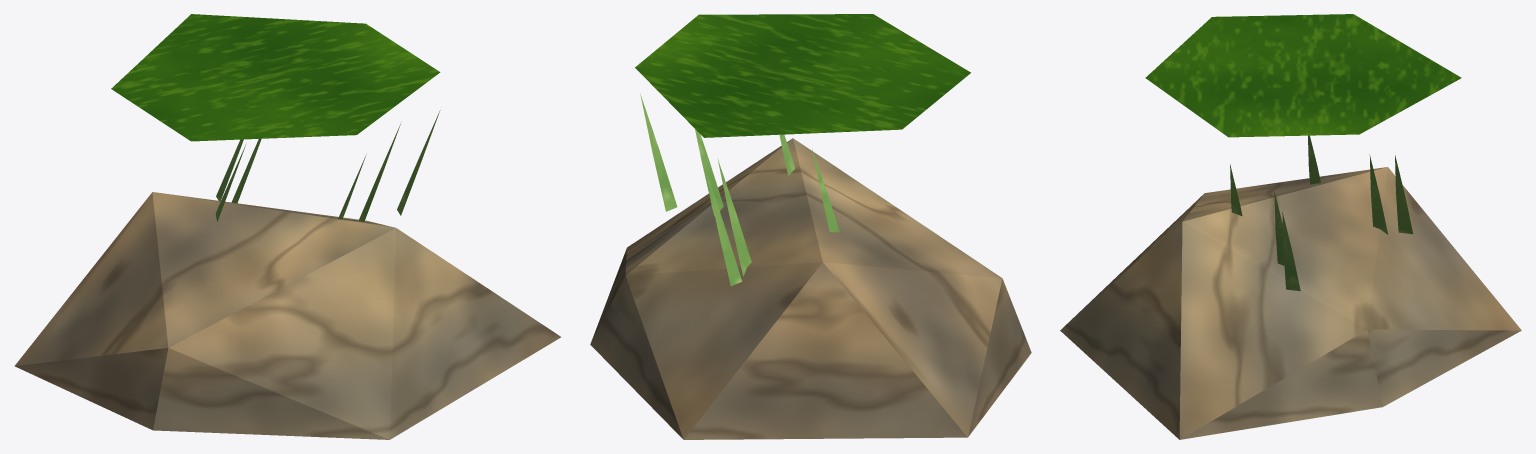
The model's file is rim_rock_sky_b.glb.
The picture shows the model from 3 angles, left to right: view 1: azimuth 30°, elevation 25°; view 2: azimuth 150°, elevation 25°; view 3: azimuth 270°, elevation 25°; orthographic projection. The views are drawn at different scales.
Visible parts, largest first — view 1: rim_rock_sky_b; view 2: rim_rock_sky_b; view 3: rim_rock_sky_b.
Boxes of the visible parts, x1,y1,x2,y2 form: rim_rock_sky_b: [14, 14, 561, 439]; rim_rock_sky_b: [590, 14, 1031, 439]; rim_rock_sky_b: [1060, 14, 1521, 439].
Bounding box in the file's own units: 2.2 × 1.29 × 2.09.
Materials: 3 (3 with a texture image).
